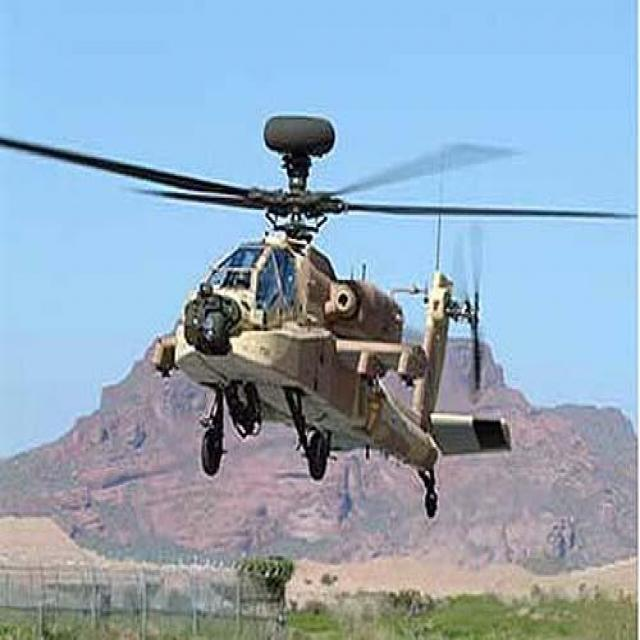MIL_HELO: (0, 97, 631, 517)
